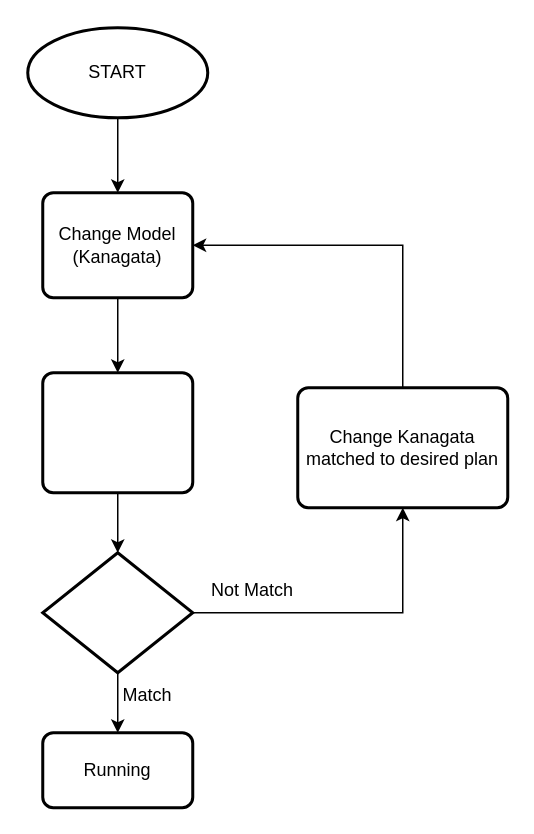
Some shapes in this 534 by 834 pixel diagram are drawn without their labels. Here are the shapes that lost their labels. From the top down, the centre of each, then its label:
pixel 117 432: Tap RFID Kanagata to Machine
pixel 117 612: Verifying
